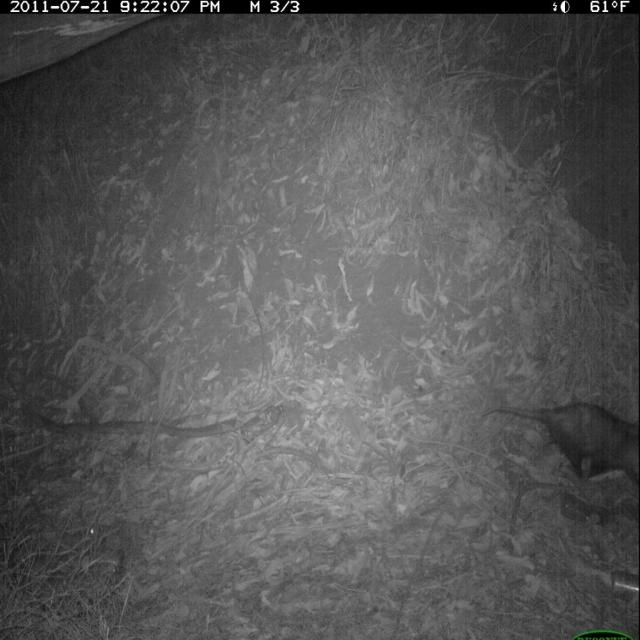opossum: (479, 394, 640, 498)
